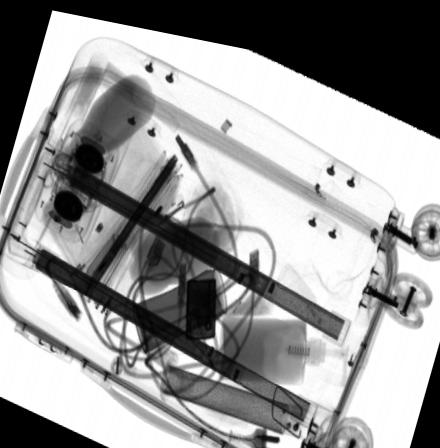Lighter: (185, 269, 217, 334)
